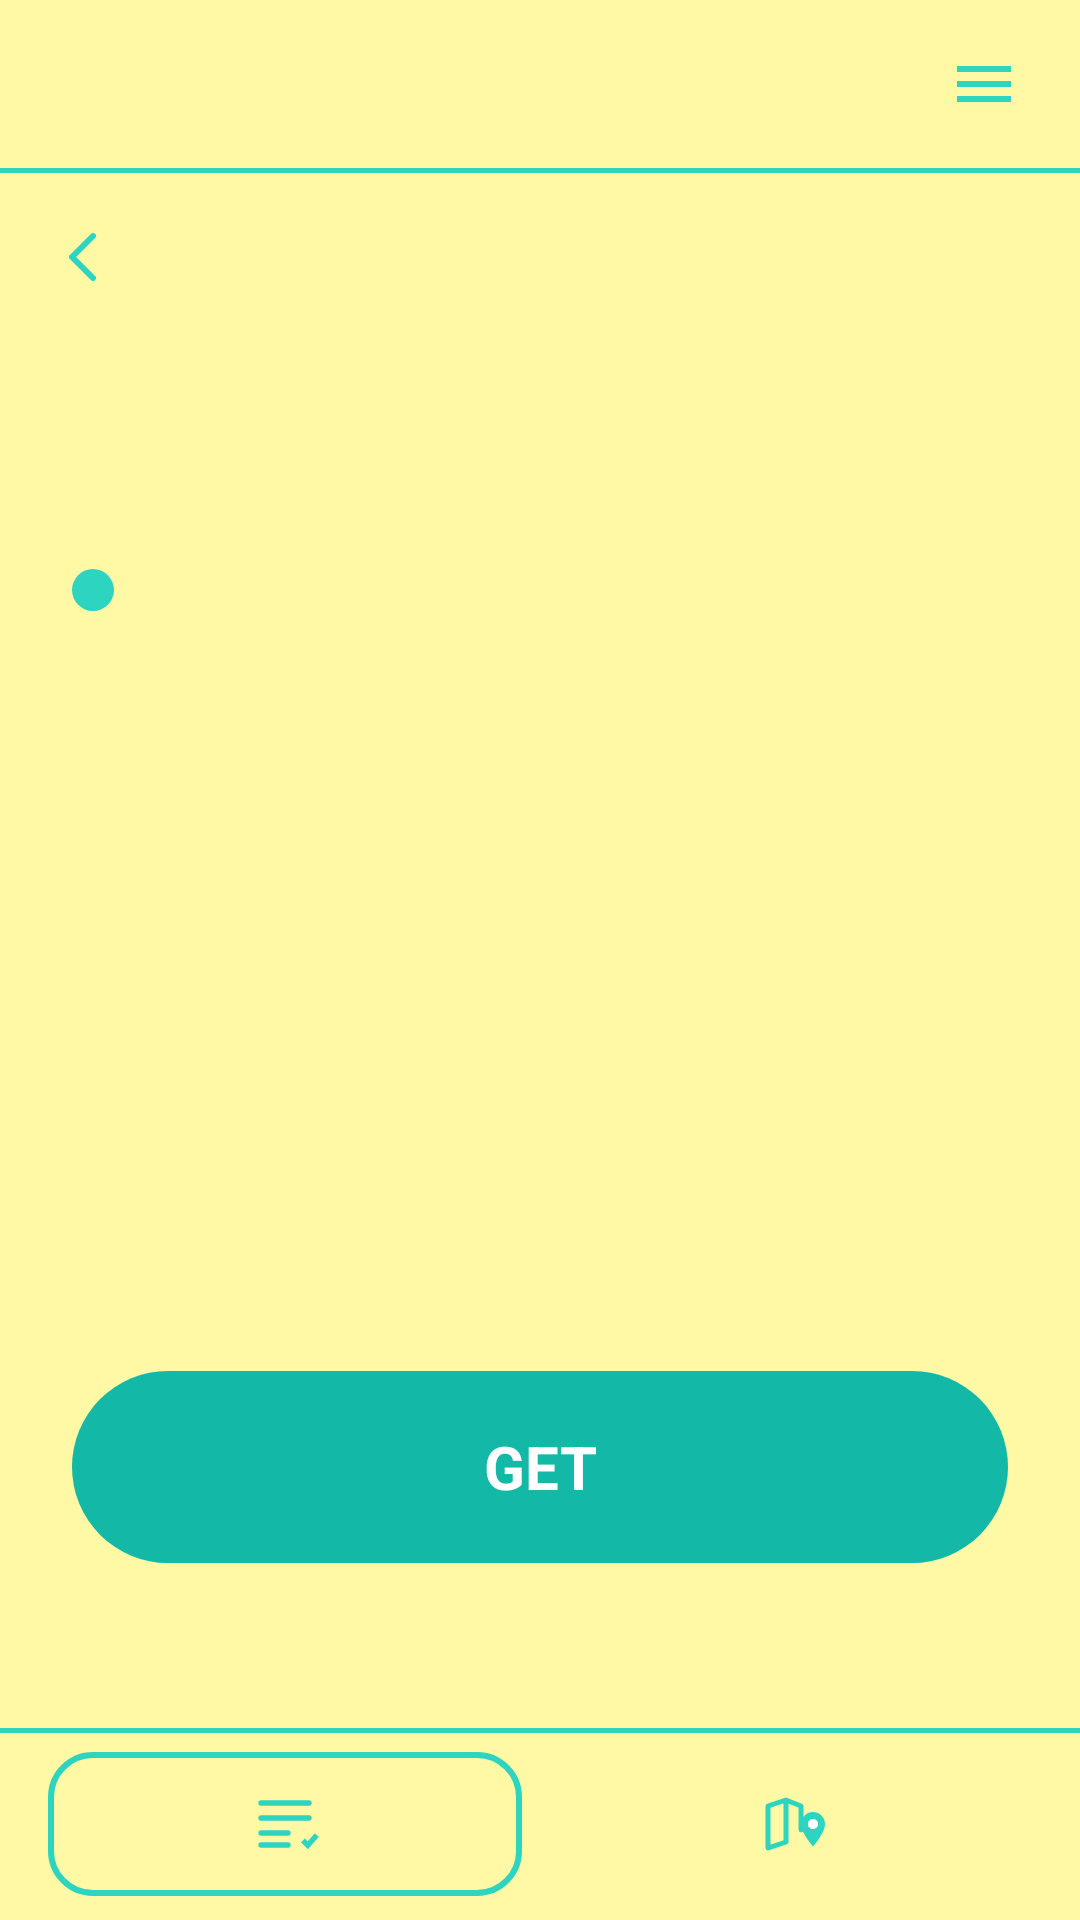

Named icons in this screenshot (1080 x 1920) and their bounding boxes, (x1, y1, x2, y2):
Back: (69, 233, 96, 281)
list view: (258, 1800, 319, 1849)
map view: (765, 1797, 825, 1851)
Open menu: (957, 66, 1011, 102)
